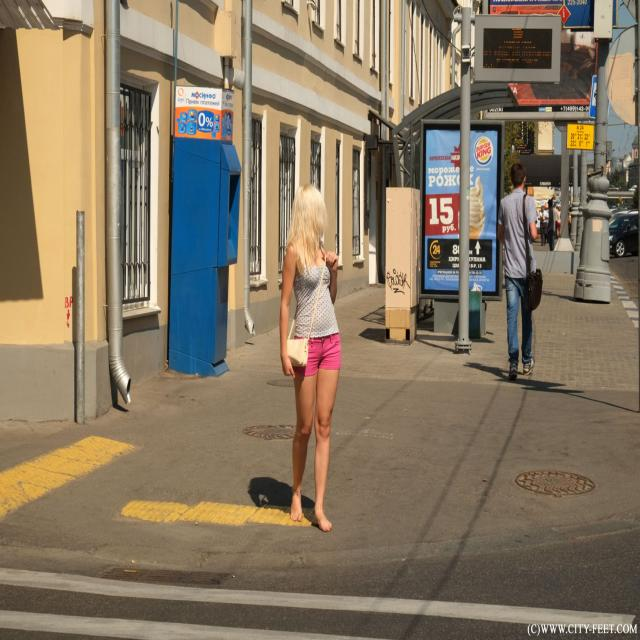No Safety Boots: (290, 488, 302, 522), (314, 512, 332, 532)
